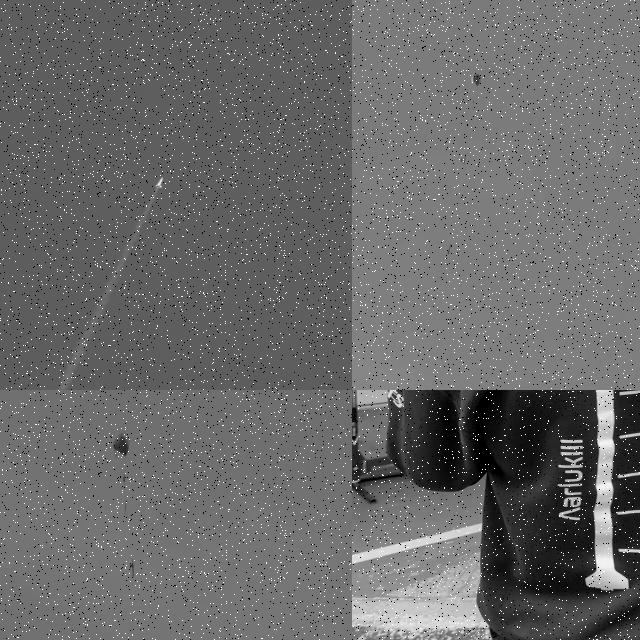Rocket: (585, 390, 629, 591), (155, 178, 163, 188), (448, 243, 452, 254)
